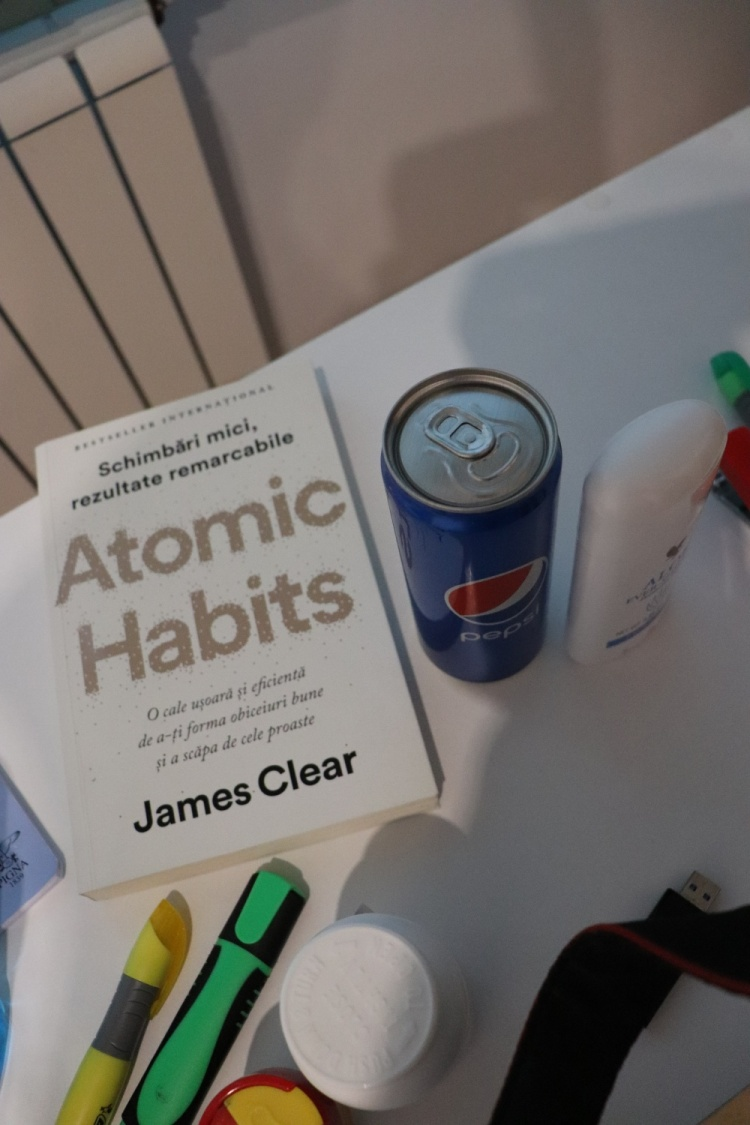pepsi: (375, 363, 560, 693)
